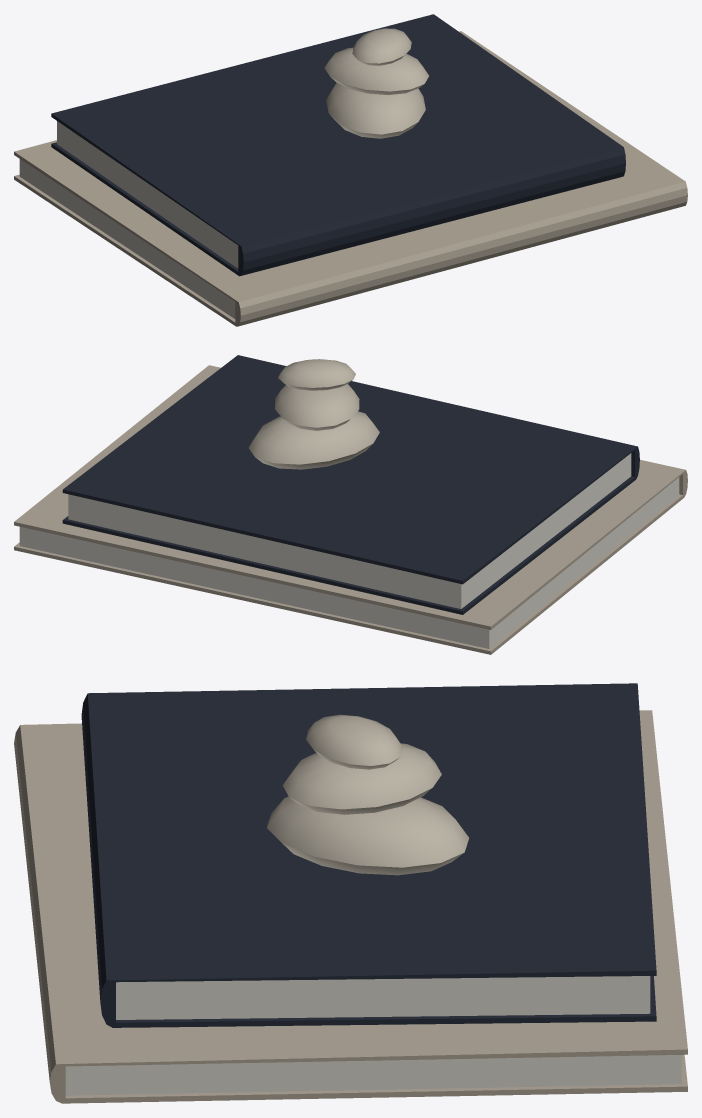
The model's file is decor_d_books_bench.gltf.
3 renders of one model, top to bottom at view 1: azimuth 30°, elevation 25°; view 2: azimuth 150°, elevation 25°; view 3: azimuth 270°, elevation 25°, orthographic. The views are drawn at different scales.
Parts seen in each view (by area): view 1: DecorD_Books_Bench_Book02_Ink_NoCollide, DecorD_Books_Bench_Book01_Oat_NoCollide, DecorD_Books_Bench_Ornament01_Stoneware_NoCollide, DecorD_Books_Bench_Book02_Paper_NoCollide, DecorD_Books_Bench_Book01_Paper_NoCollide; view 2: DecorD_Books_Bench_Book02_Ink_NoCollide, DecorD_Books_Bench_Book01_Oat_NoCollide, DecorD_Books_Bench_Book02_Paper_NoCollide, DecorD_Books_Bench_Book01_Paper_NoCollide, DecorD_Books_Bench_Ornament01_Stoneware_NoCollide; view 3: DecorD_Books_Bench_Book02_Ink_NoCollide, DecorD_Books_Bench_Book01_Oat_NoCollide, DecorD_Books_Bench_Ornament01_Stoneware_NoCollide, DecorD_Books_Bench_Book02_Paper_NoCollide, DecorD_Books_Bench_Book01_Paper_NoCollide.
Part boxes in pixels (<box>): DecorD_Books_Bench_Book02_Ink_NoCollide: <box>51,14,625,276</box>; DecorD_Books_Bench_Book01_Oat_NoCollide: <box>14,31,687,326</box>; DecorD_Books_Bench_Ornament01_Stoneware_NoCollide: <box>324,28,428,138</box>; DecorD_Books_Bench_Book02_Paper_NoCollide: <box>57,121,238,268</box>; DecorD_Books_Bench_Book01_Paper_NoCollide: <box>19,159,235,318</box>; DecorD_Books_Bench_Book02_Ink_NoCollide: <box>62,355,639,614</box>; DecorD_Books_Bench_Book01_Oat_NoCollide: <box>14,365,687,654</box>; DecorD_Books_Bench_Book02_Paper_NoCollide: <box>68,453,631,608</box>; DecorD_Books_Bench_Book01_Paper_NoCollide: <box>19,477,679,648</box>; DecorD_Books_Bench_Ornament01_Stoneware_NoCollide: <box>248,359,379,469</box>; DecorD_Books_Bench_Book02_Ink_NoCollide: <box>81,683,656,1027</box>; DecorD_Books_Bench_Book01_Oat_NoCollide: <box>14,710,687,1103</box>; DecorD_Books_Bench_Ornament01_Stoneware_NoCollide: <box>267,714,469,875</box>; DecorD_Books_Bench_Book02_Paper_NoCollide: <box>116,976,650,1019</box>; DecorD_Books_Bench_Book01_Paper_NoCollide: <box>65,1055,681,1095</box>.
Size of the model in its own units: 0.4034 by 0.1216 by 0.327.
